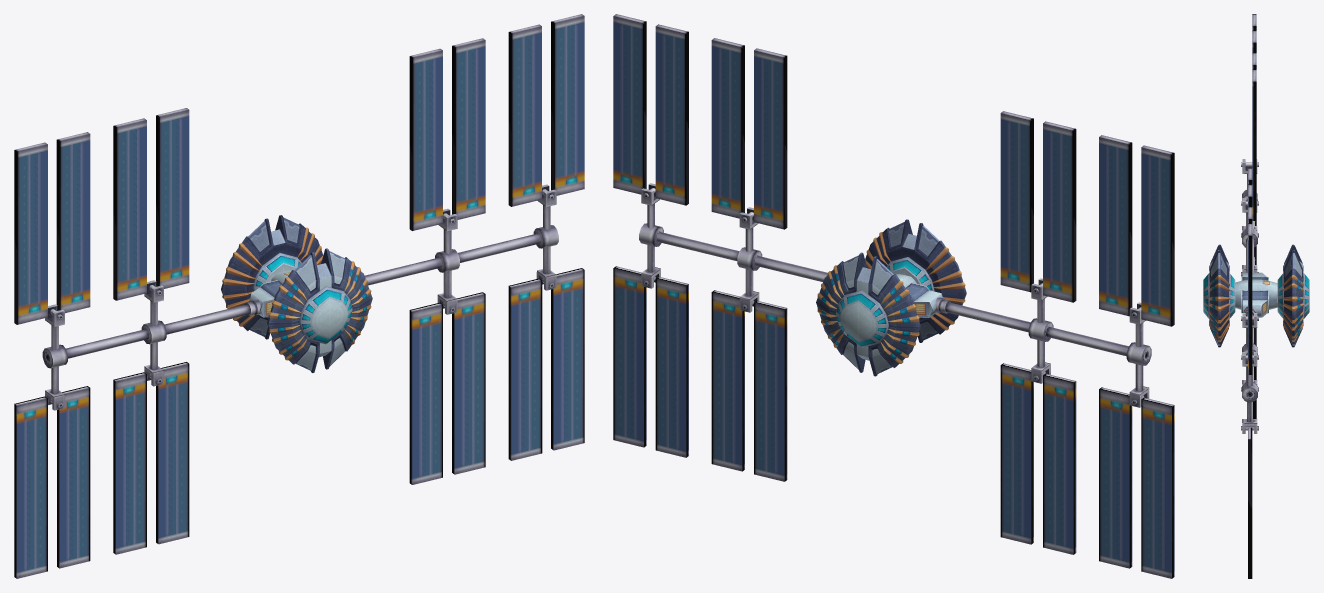
Rendered from rc_02_budA_03_01.FBX.
3 views of the same model, side by side, from view 1: azimuth 30°, elevation 25°; view 2: azimuth 150°, elevation 25°; view 3: azimuth 270°, elevation 25° (orthographic). The views are drawn at different scales.
Visible parts, largest first — view 1: rc_02_budA_03_01_02, rc_02_budA_03_01_01; view 2: rc_02_budA_03_01_02, rc_02_budA_03_01_01; view 3: rc_02_budA_03_01_01, rc_02_budA_03_01_02.
Boxes of the visible parts, left/top/right/bottom form: rc_02_budA_03_01_02: left=14, top=14, right=584, bottom=578; rc_02_budA_03_01_01: left=221, top=215, right=372, bottom=372; rc_02_budA_03_01_02: left=613, top=14, right=1174, bottom=578; rc_02_budA_03_01_01: left=816, top=219, right=966, bottom=376; rc_02_budA_03_01_01: left=1203, top=244, right=1309, bottom=347; rc_02_budA_03_01_02: left=1241, top=14, right=1258, bottom=578.
Bounding box in the file's own units: 10409 × 2110 × 7518.
